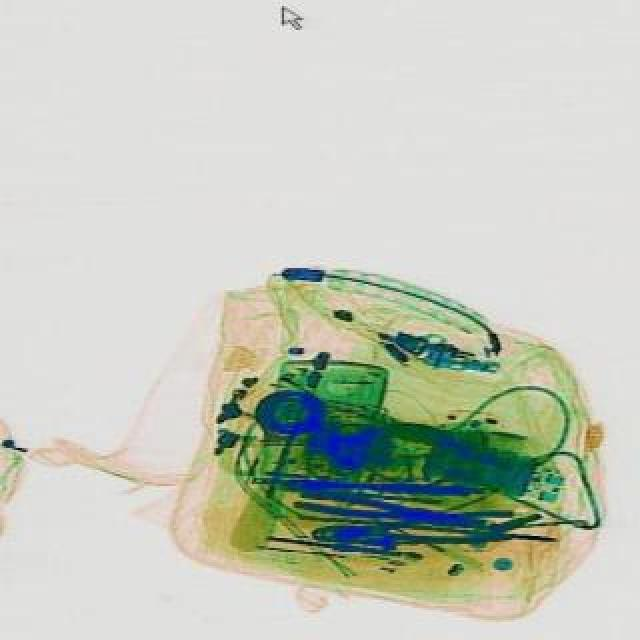wrench: (290, 484, 486, 532), (310, 506, 512, 550)
